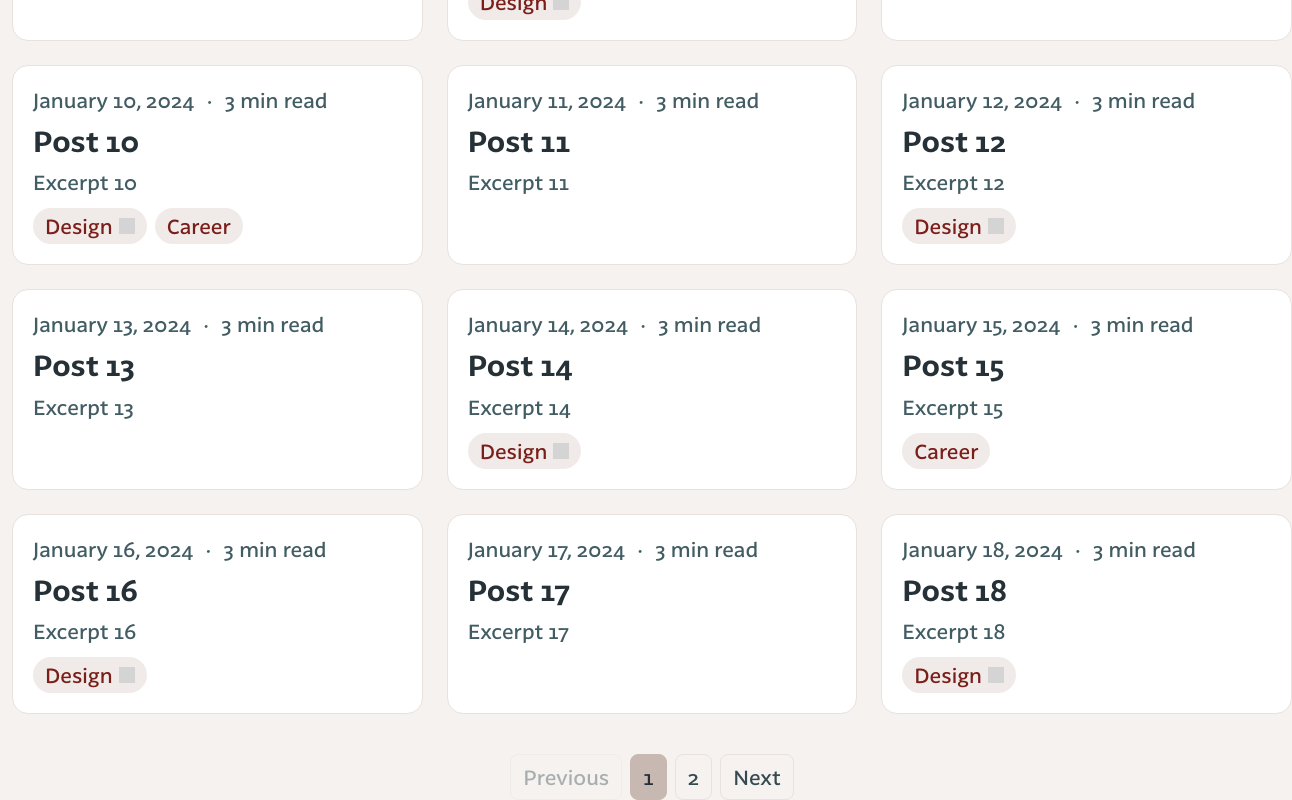
BlogListClient › paginates 18 posts per page and passes category images to the cards
The width and height of the screenshot is (1292, 800).
(page scrolled)
Step 1. Click the button "2" → click(693, 777), box x1=675 y1=754 x2=712 y2=799
(page scrolled)
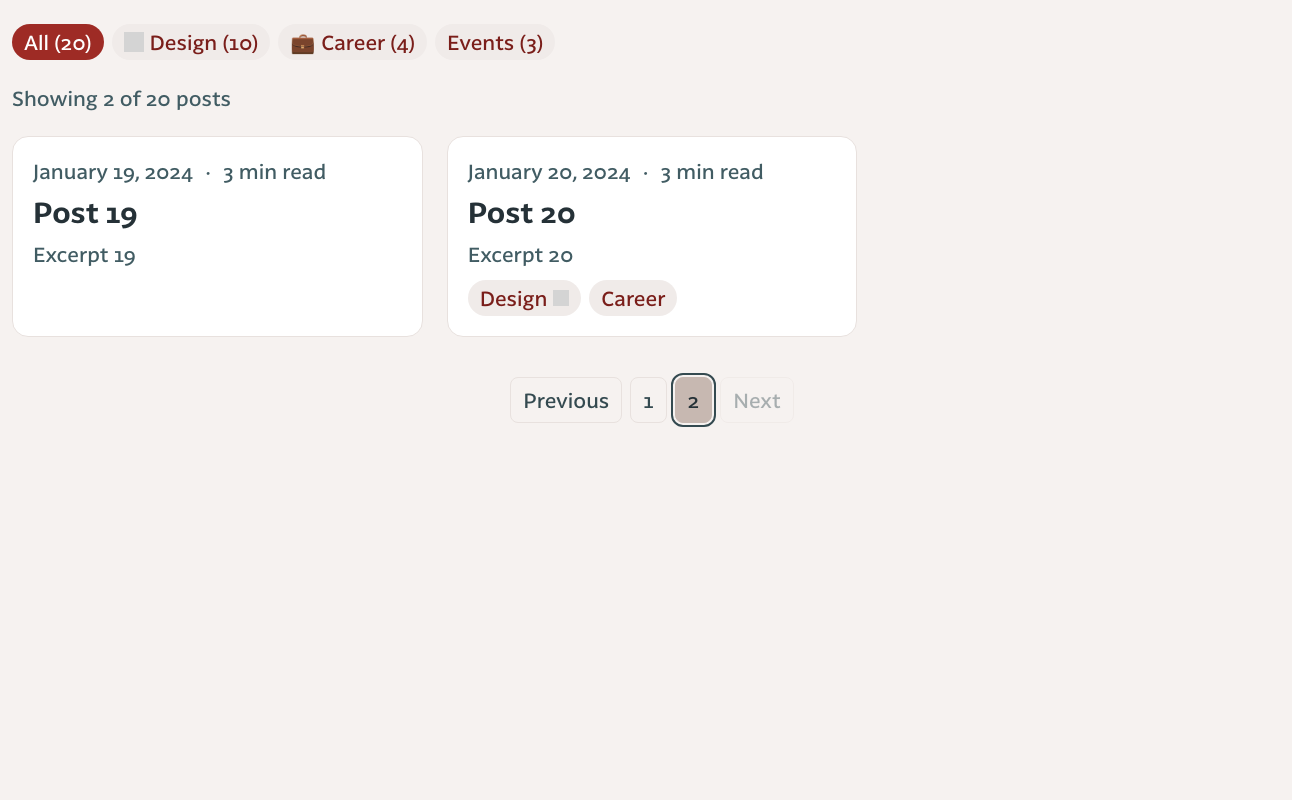
Result: the text "Showing 2 of 20 posts" is shown at x1=12 y1=86 x2=231 y2=110
